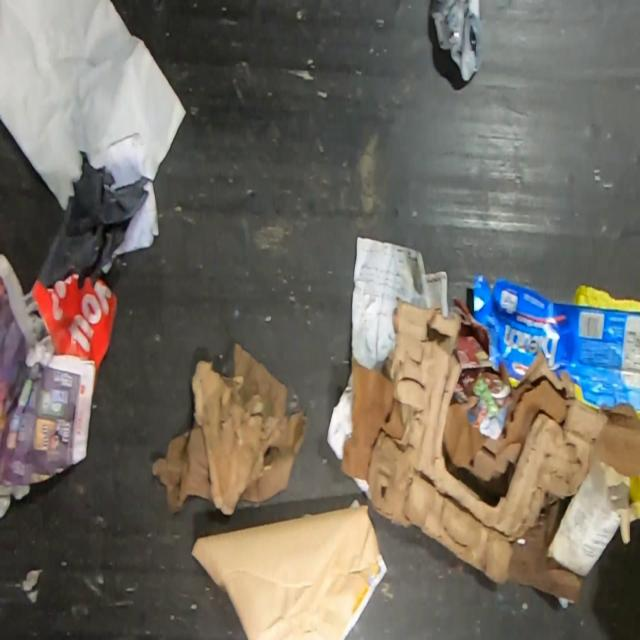cardboard: (365, 298, 608, 586), (190, 497, 382, 640)
rigid_plastic: (431, 0, 483, 81)
soft_plastic: (36, 149, 149, 291)
